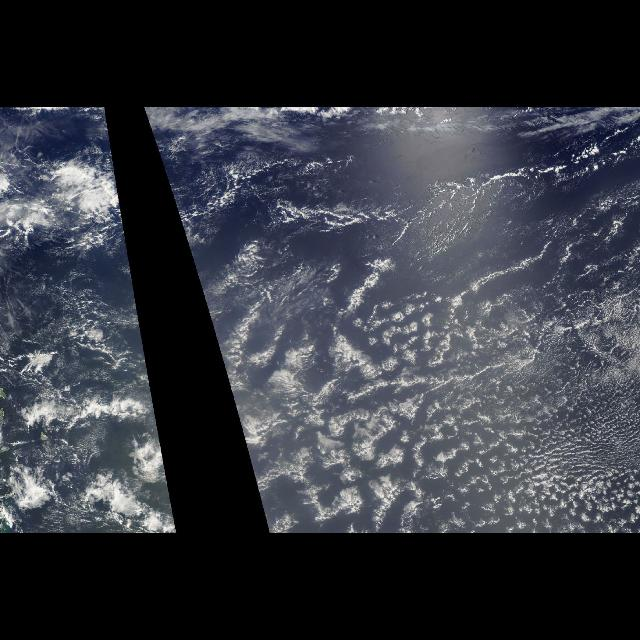Flower: (240, 262, 640, 534)
Sugar: (374, 297, 640, 533)
